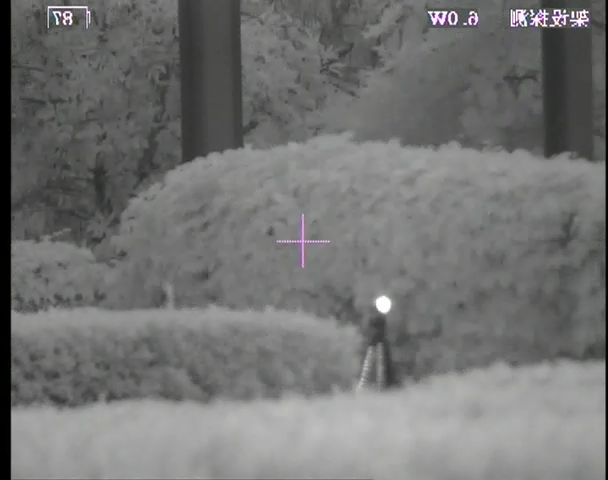my: (373, 295, 392, 316)
